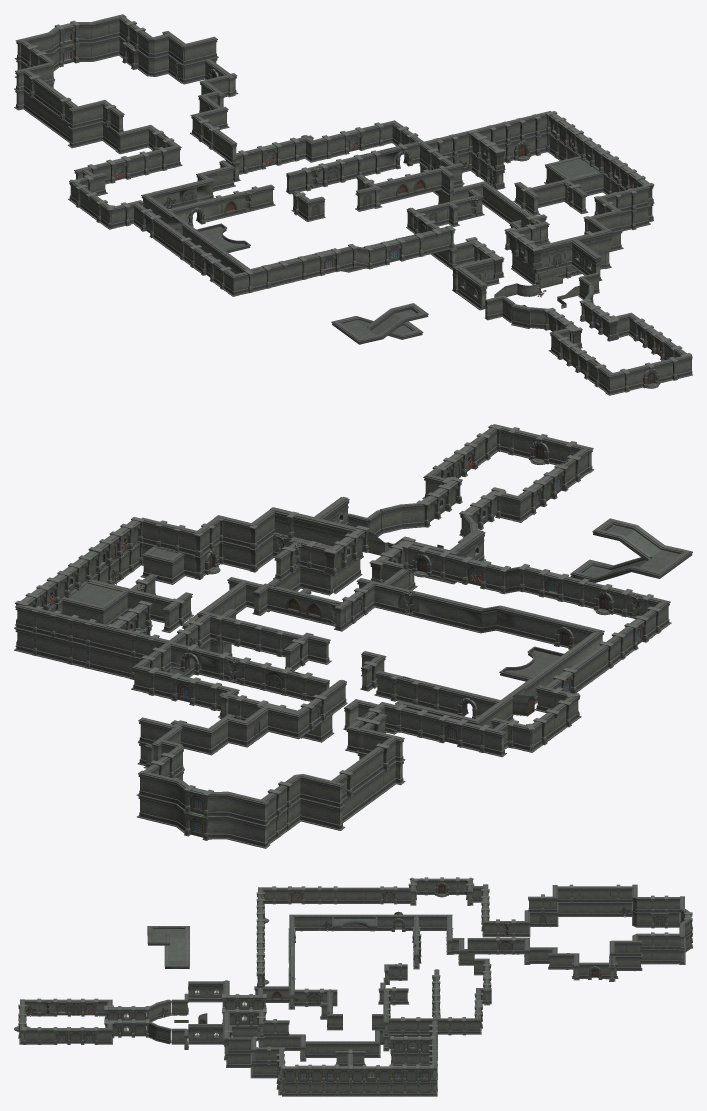
File: sc_moshenta_wall_001.FBX
3 views of the same model, one above another, from view 1: azimuth 30°, elevation 25°; view 2: azimuth 150°, elevation 25°; view 3: azimuth 270°, elevation 25° (orthographic). The views are drawn at different scales.
Visible parts, largest first — view 1: sc_moshenta_wall_a054, 对象091, sc_moshenta_wall_a013, sc_moshenta_wall_a063, sc_moshenta_wall_a012, sc_moshenta_wall_a015, sc_moshenta_wall_a039, sc_moshenta_wall_a057, sc_moshenta_wall_a086, sc_moshenta_wall_a051, sc_moshenta_wall_a065, sc_moshenta_wall_a061 (+33 smaller); view 2: sc_moshenta_wall_a013, 对象091, sc_moshenta_wall_a054, sc_moshenta_wall_a063, sc_moshenta_wall_a052, sc_moshenta_wall_a012, sc_moshenta_wall_a039, sc_moshenta_wall_a015, sc_moshenta_wall_a086, sc_moshenta_wall_a057, sc_moshenta_wall_a061, sc_moshenta_wall_a065 (+39 smaller); view 3: sc_moshenta_wall_a012, sc_moshenta_wall_a057, sc_moshenta_wall_a013, sc_moshenta_wall_a065, sc_moshenta_wall_a053, 对象091, sc_moshenta_wall_a020, sc_moshenta_wall_a019, sc_moshenta_wall_a086, sc_moshenta_wall_a016, sc_moshenta_wall_a088, sc_moshenta_wall_a032 (+34 smaller).
Boxes of the visible parts, left/top/right/bottom form: sc_moshenta_wall_a054: left=233, top=225, right=456, bottom=296; 对象091: left=419, top=111, right=550, bottom=204; sc_moshenta_wall_a013: left=511, top=186, right=650, bottom=284; sc_moshenta_wall_a063: left=14, top=14, right=126, bottom=77; sc_moshenta_wall_a012: left=545, top=111, right=654, bottom=221; sc_moshenta_wall_a015: left=513, top=156, right=603, bottom=215; sc_moshenta_wall_a039: left=286, top=141, right=420, bottom=194; sc_moshenta_wall_a057: left=133, top=203, right=235, bottom=296; sc_moshenta_wall_a086: left=331, top=303, right=428, bottom=344; sc_moshenta_wall_a051: left=169, top=184, right=275, bottom=226; sc_moshenta_wall_a065: left=23, top=70, right=77, bottom=142; sc_moshenta_wall_a061: left=74, top=146, right=182, bottom=184; sc_moshenta_wall_a013: left=140, top=507, right=362, bottom=593; 对象091: left=14, top=600, right=232, bottom=679; sc_moshenta_wall_a054: left=402, top=542, right=670, bottom=622; sc_moshenta_wall_a063: left=136, top=770, right=270, bottom=848; sc_moshenta_wall_a052: left=356, top=578, right=604, bottom=649; sc_moshenta_wall_a012: left=15, top=517, right=144, bottom=648; sc_moshenta_wall_a039: left=170, top=642, right=329, bottom=701; sc_moshenta_wall_a015: left=62, top=574, right=193, bottom=632; sc_moshenta_wall_a086: left=570, top=518, right=692, bottom=582; sc_moshenta_wall_a057: left=545, top=601, right=671, bottom=693; sc_moshenta_wall_a061: left=382, top=702, right=506, bottom=757; sc_moshenta_wall_a065: left=331, top=737, right=396, bottom=823; sc_moshenta_wall_a012: left=281, top=1064, right=435, bottom=1096; sc_moshenta_wall_a057: left=258, top=886, right=411, bottom=904; sc_moshenta_wall_a013: left=223, top=1025, right=285, bottom=1095; sc_moshenta_wall_a065: left=556, top=884, right=633, bottom=917; sc_moshenta_wall_a053: left=290, top=911, right=453, bottom=931; 对象091: left=380, top=1020, right=437, bottom=1096; sc_moshenta_wall_a020: left=22, top=1027, right=112, bottom=1044; sc_moshenta_wall_a019: left=24, top=998, right=111, bottom=1016; sc_moshenta_wall_a086: left=147, top=926, right=189, bottom=968; sc_moshenta_wall_a016: left=636, top=895, right=680, bottom=928; sc_moshenta_wall_a088: left=633, top=932, right=680, bottom=964; sc_moshenta_wall_a032: left=304, top=1030, right=380, bottom=1057.
Bounding box in the file's own units: 165 × 27.61 × 274.
